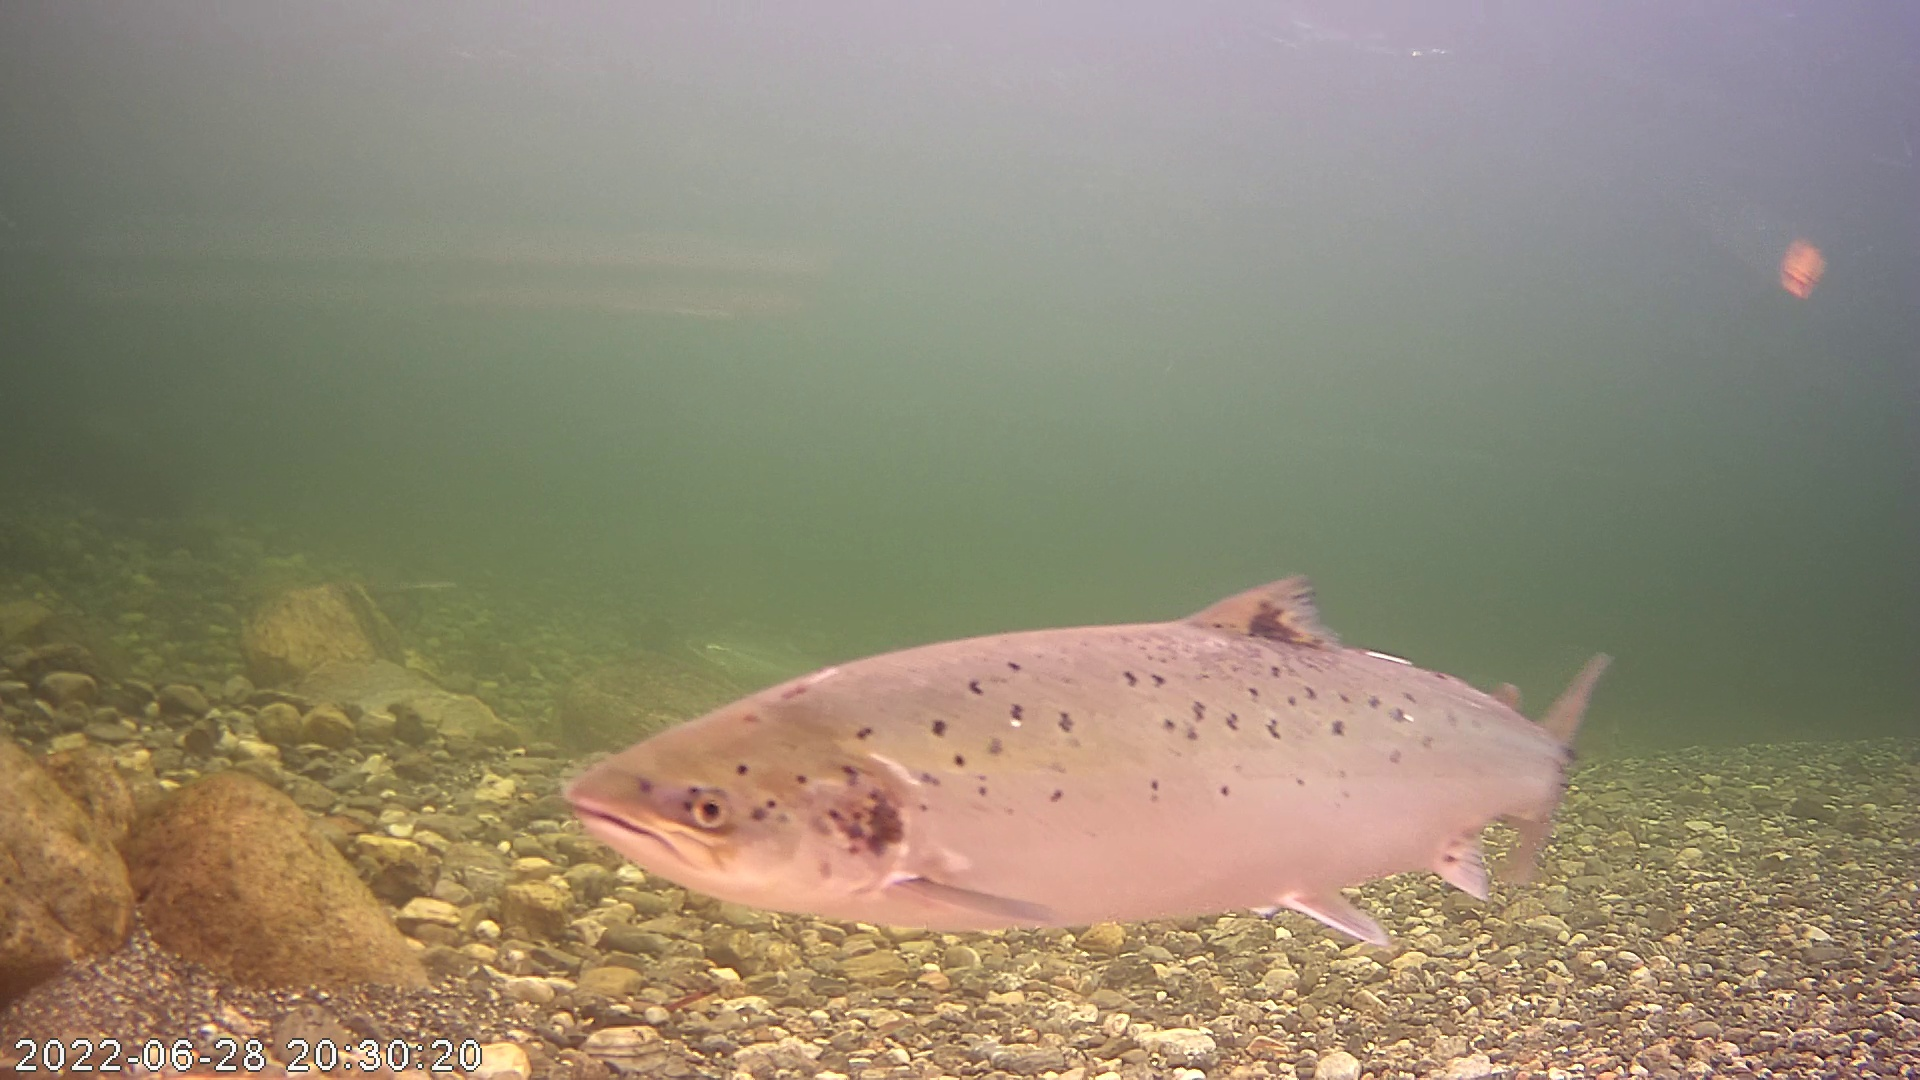salmon: (556, 549, 1614, 948)
